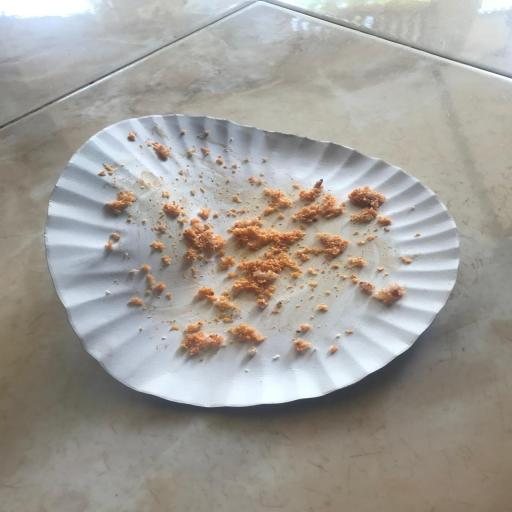waste: (42, 110, 476, 417)
